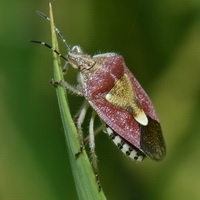insect: (37, 2, 165, 199)
